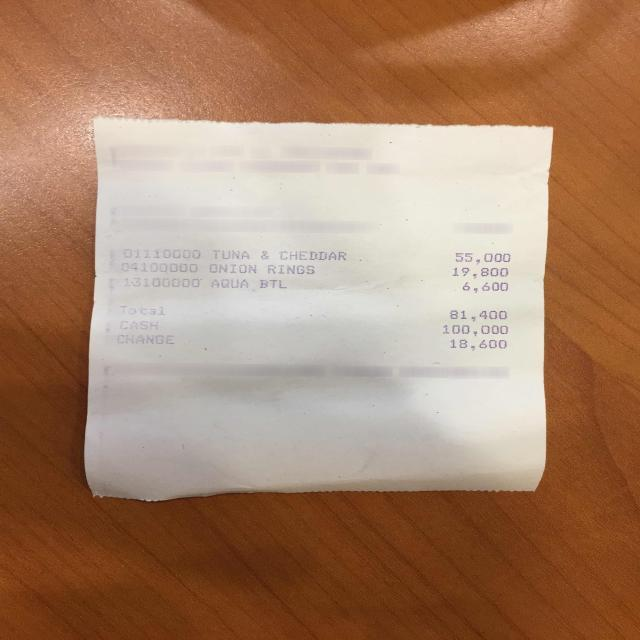kertas: (83, 117, 552, 509)
